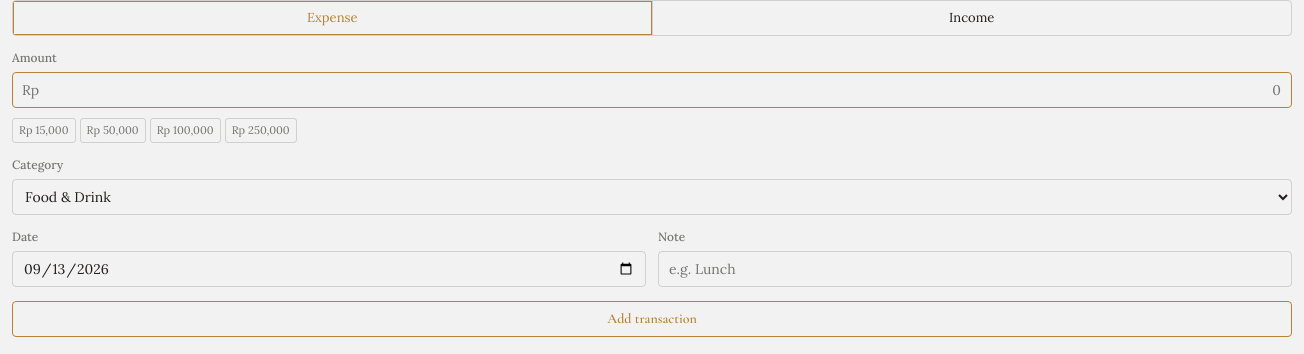
TransactionForm quick amounts › replaces rather than appends when a second chip is tapped
This screenshot has width=1304, height=354.
Click the button "Rp 50,000" at (113, 131), box [80, 118, 146, 143]
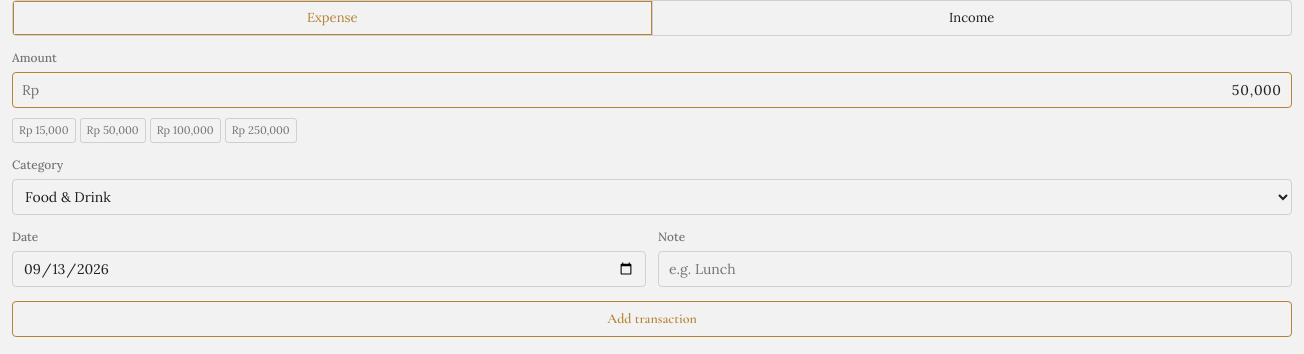
Click the button "Rp 250,000" at (261, 131), box [225, 118, 297, 143]
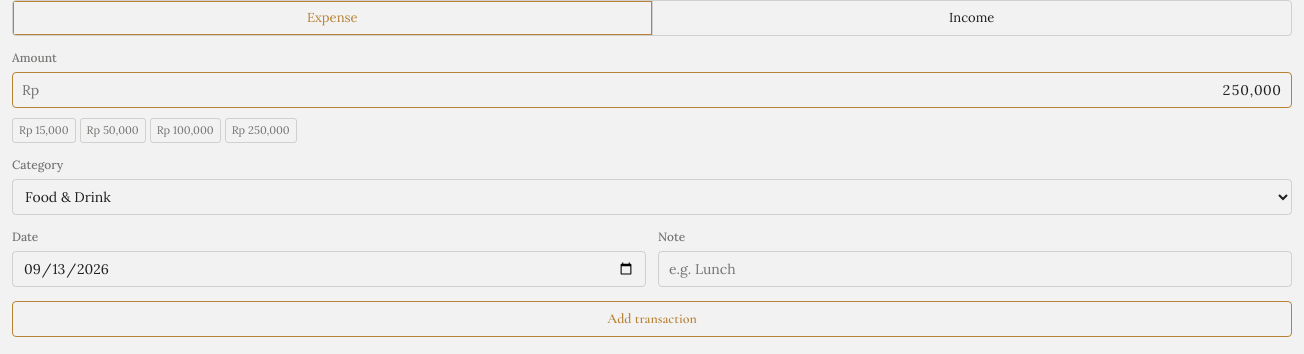
expect the field labelled "Amount" holds "250,000": met, box [12, 72, 1292, 108]
